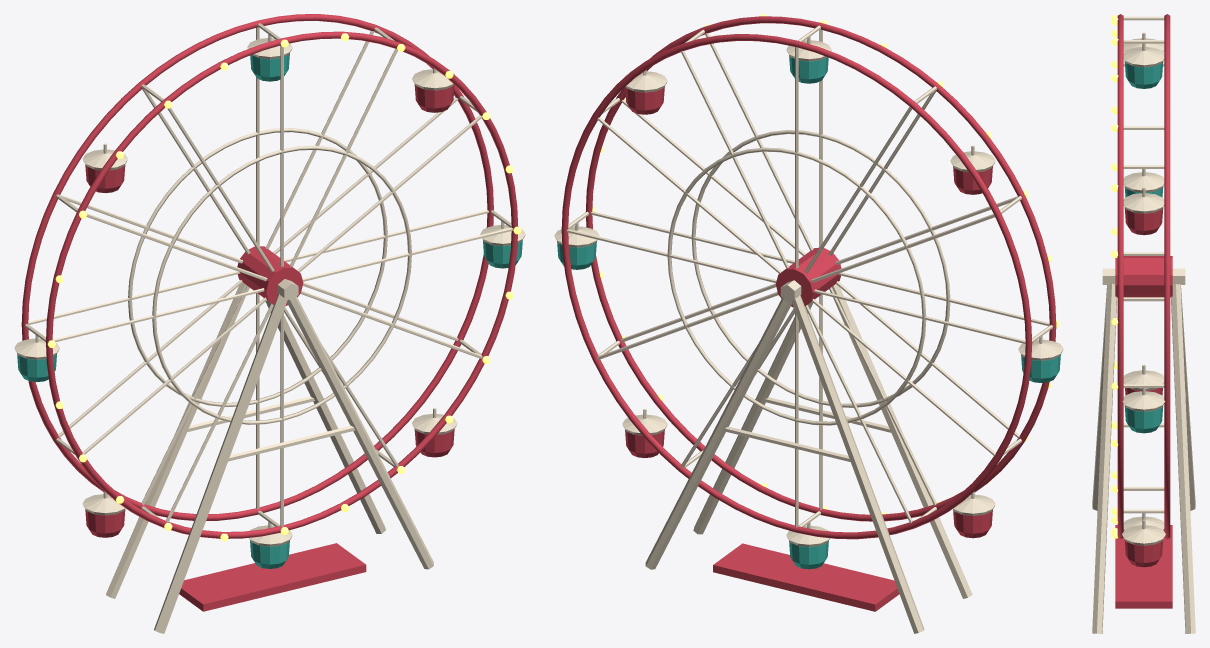
File: ferris-wheel.glb
The picture shows the model from 3 angles, left to right: view 1: azimuth 30°, elevation 25°; view 2: azimuth 150°, elevation 25°; view 3: azimuth 270°, elevation 25°; orthographic projection. The views are drawn at different scales.
Parts seen in each view (by area): view 1: wheel-body, frame, cabin-5, cabin-1, cabin-4, cabin-6, cabin-7, cabin-3, cabin-2, cabin-0; view 2: wheel-body, frame, cabin-5, cabin-1, cabin-4, cabin-6, cabin-7, cabin-3, cabin-0, cabin-2; view 3: frame, wheel-body, cabin-7, cabin-1, cabin-2, cabin-0, cabin-4, cabin-5, cabin-6, cabin-3.
Boxes of the visible parts, left/top/right/bottom form: wheel-body: left=21, top=14, right=521, bottom=541; frame: left=106, top=279, right=433, bottom=633; cabin-5: left=82, top=491, right=125, bottom=537; cabin-1: left=412, top=68, right=455, bottom=112; cabin-4: left=14, top=335, right=59, bottom=381; cabin-6: left=249, top=522, right=292, bottom=568; cabin-7: left=412, top=408, right=457, bottom=457; cabin-3: left=82, top=143, right=127, bottom=193; cabin-2: left=247, top=34, right=292, bottom=81; cabin-0: left=480, top=221, right=525, bottom=268; wheel-body: left=561, top=14, right=1059, bottom=539; frame: left=645, top=280, right=972, bottom=633; cabin-5: left=953, top=491, right=995, bottom=538; cabin-1: left=624, top=70, right=667, bottom=114; cabin-4: left=1018, top=336, right=1063, bottom=382; cabin-6: left=786, top=522, right=829, bottom=569; cabin-7: left=622, top=409, right=667, bottom=457; cabin-3: left=950, top=145, right=995, bottom=194; cabin-0: left=554, top=223, right=599, bottom=269; cabin-2: left=786, top=36, right=831, bottom=83; frame: left=1092, top=268, right=1195, bottom=633; wheel-body: left=1111, top=14, right=1172, bottom=539; cabin-7: left=1122, top=519, right=1165, bottom=567; cabin-1: left=1123, top=187, right=1164, bottom=235; cabin-2: left=1123, top=43, right=1164, bottom=88; cabin-0: left=1122, top=388, right=1165, bottom=433; cabin-4: left=1123, top=169, right=1164, bottom=196; cabin-5: left=1123, top=364, right=1164, bottom=395; cabin-6: left=1123, top=513, right=1164, bottom=529; cabin-3: left=1123, top=32, right=1164, bottom=51.
Size of the model in its own units: 2.17 by 2.28 by 0.4.
